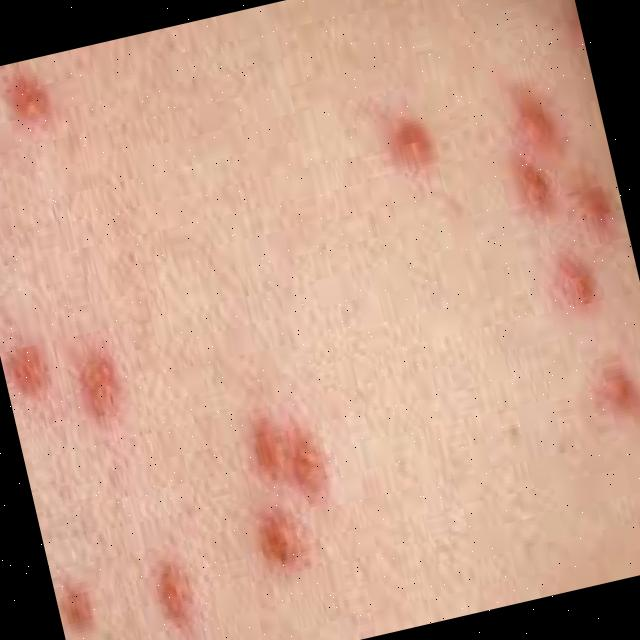kan emici bocekler: (388, 116, 439, 172), (259, 514, 306, 568)
